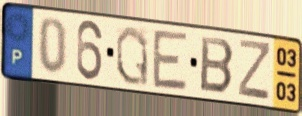0: (36, 15, 69, 78)
6: (75, 19, 104, 83)
B: (198, 34, 237, 96)
E: (151, 27, 190, 94)
Q: (114, 23, 150, 89)
Z: (237, 37, 272, 104)
